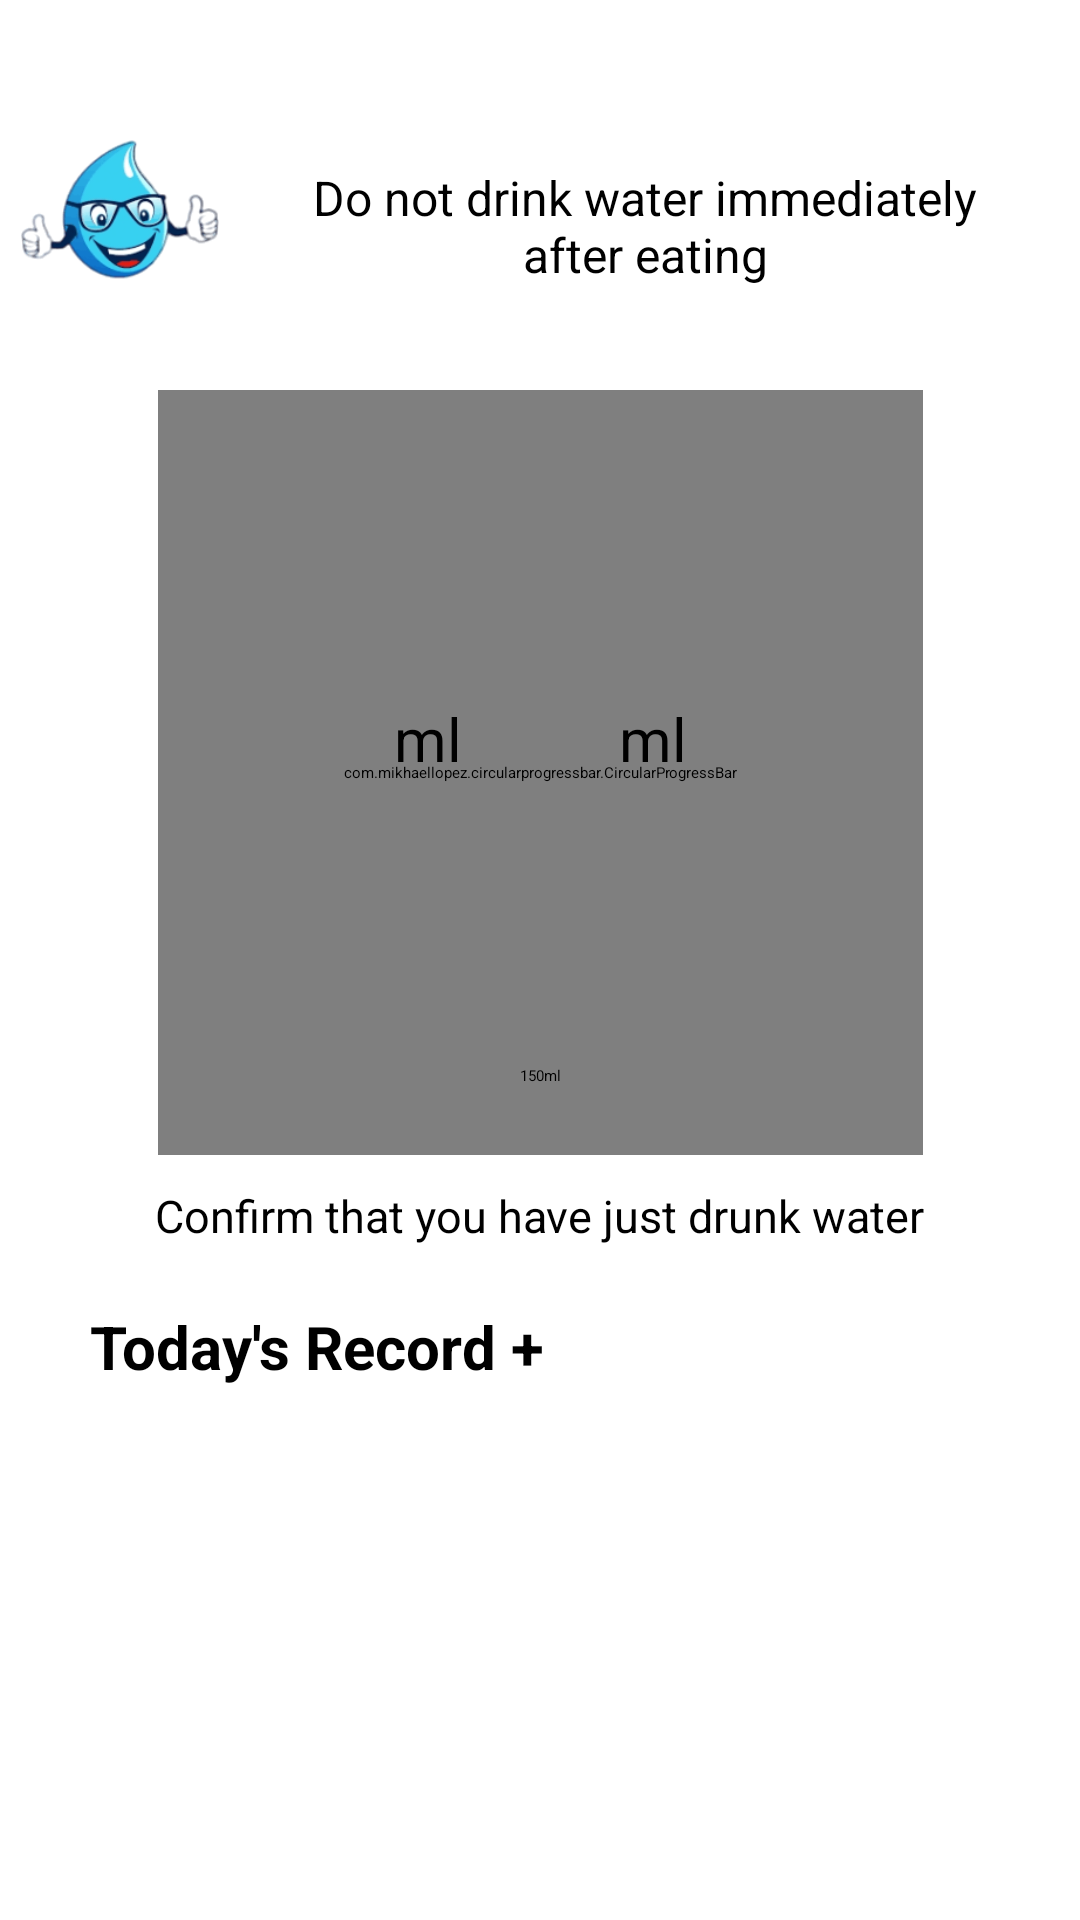

Screen size 1080w x 1920h. Icon name, then its center in pixels as (x,y):
water drop specs: (120,209)
